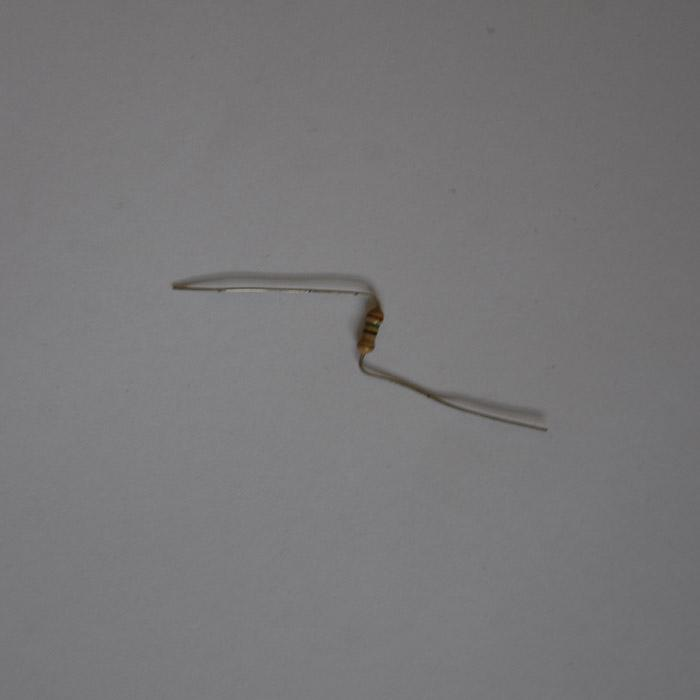resistor: (356, 305, 384, 356)
